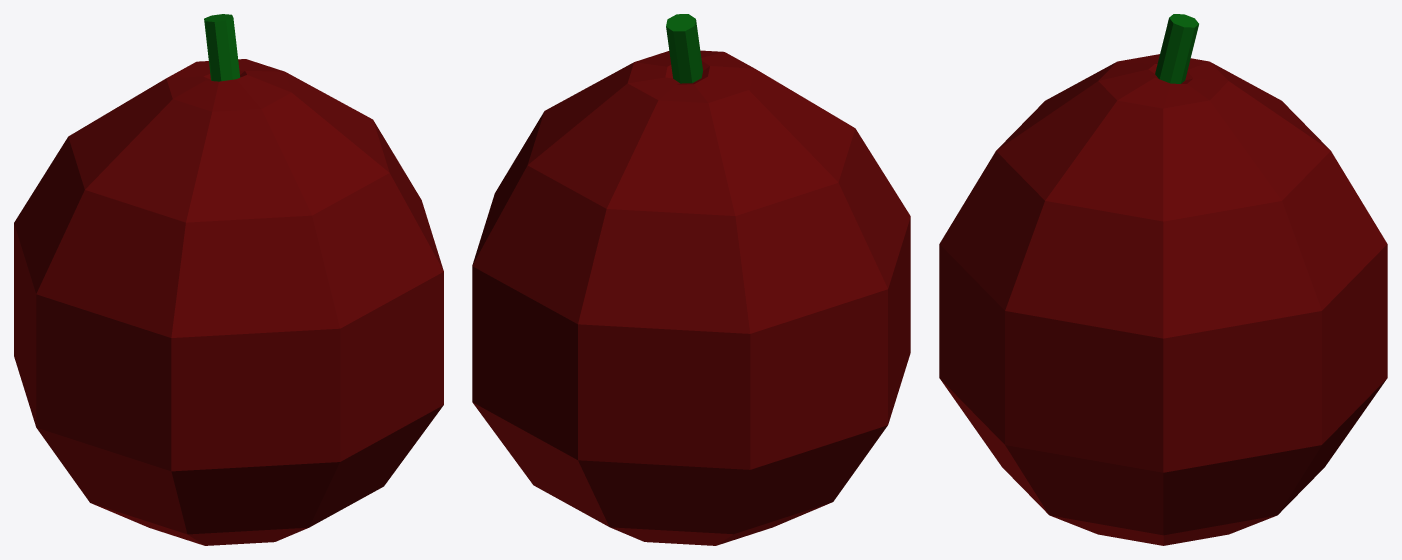
The model's file is passionfruit01.gltf.
The picture shows the model from 3 angles, left to right: view 1: azimuth 30°, elevation 25°; view 2: azimuth 150°, elevation 25°; view 3: azimuth 270°, elevation 25°; orthographic projection. The views are drawn at different scales.
Parts seen in each view (by area): view 1: Cylinder; view 2: Cylinder; view 3: Cylinder.
Boxes of the visible parts, box(x1,y1,x2,y2) form: Cylinder: box(14, 14, 443, 545); Cylinder: box(472, 14, 910, 545); Cylinder: box(939, 14, 1387, 545).
Bounding box in the file's own units: 0.0554 × 0.0667 × 0.0554.
1 material, 1 textured.
